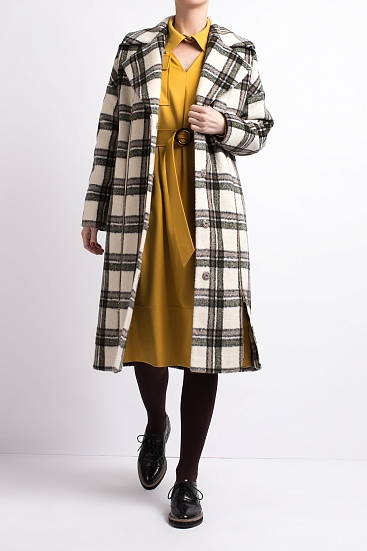squared: (79, 14, 279, 383)
